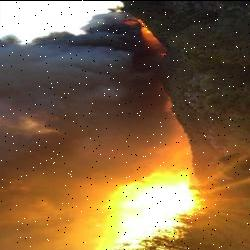fire: (88, 140, 202, 245), (110, 8, 170, 60)
